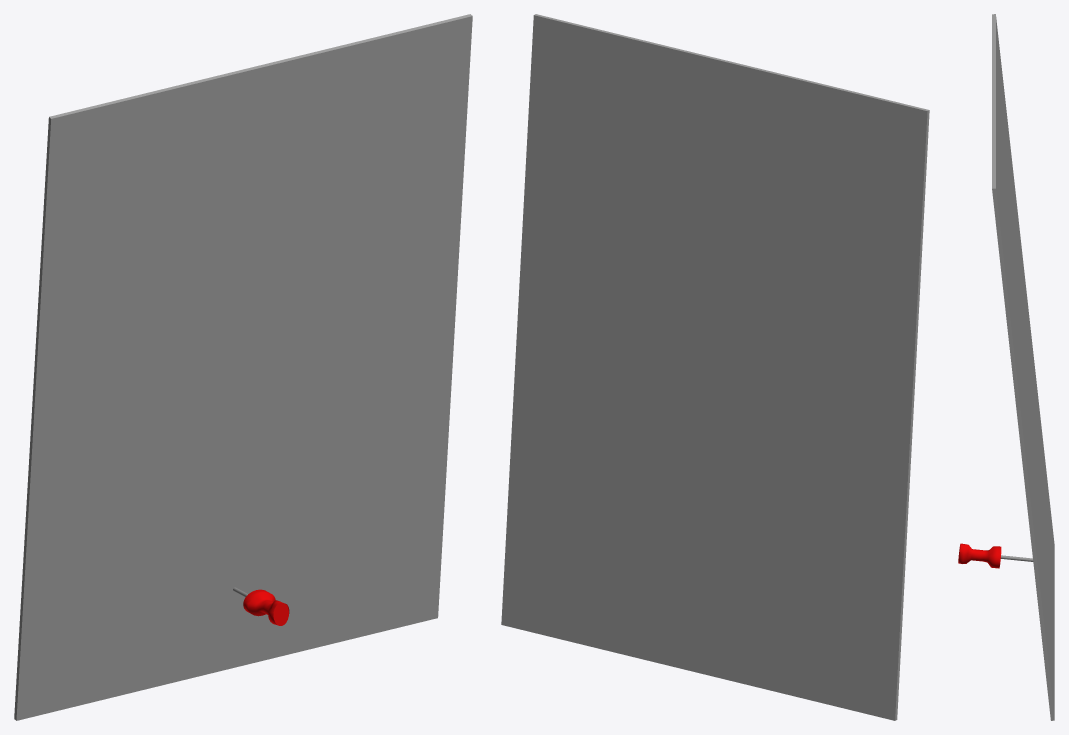
The model's file is poster.fbx.
3 renders of one model, left to right at view 1: azimuth 30°, elevation 25°; view 2: azimuth 150°, elevation 25°; view 3: azimuth 270°, elevation 25°, orthographic. The views are drawn at different scales.
Parts seen in each view (by area): view 1: pCube1, pCylinder3; view 2: pCube1; view 3: pCube1, pCylinder3.
Boxes of the visible parts, left/top/right/bottom form: pCube1: left=14, top=14, right=472, bottom=720; pCylinder3: left=233, top=587, right=289, bottom=625; pCube1: left=501, top=14, right=929, bottom=720; pCube1: left=992, top=14, right=1054, bottom=720; pCylinder3: left=958, top=543, right=1033, bottom=568.
Bounding box in the file's own units: 1 × 1.42 × 0.2338.
